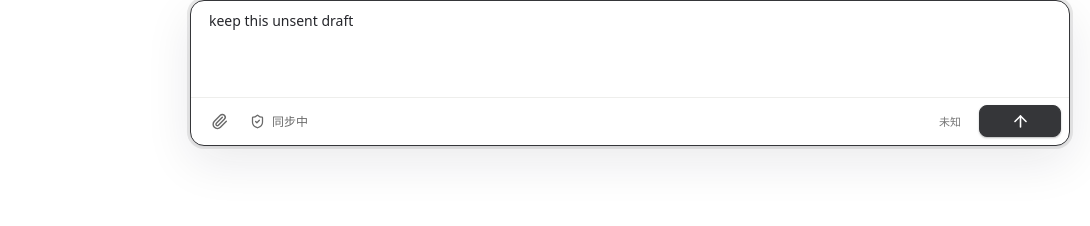
Test: composer terminal-style keyboard controls › preserves failed drafts and lets the user dismiss the warning or start a fresh attempt
What coordinates should you click on to do the following:
click the button with class "send-button"
I would click on:
 (1020, 121)
Its box is [979, 105, 1061, 137].
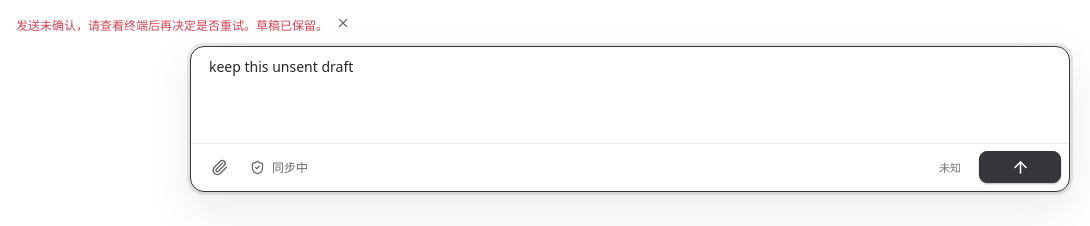
Check: the field with class "cm-content" reads "keep this unsent draft", box [209, 57, 353, 76]
Check: the message "发送未确认，请查看终端后再决定是否重试。草稿已保留。" is shown, box [16, 8, 358, 38]
What coordinates should you click on to do the following:
click the button named "关闭"
I would click on:
 (343, 23)
Its box is [328, 8, 358, 38].
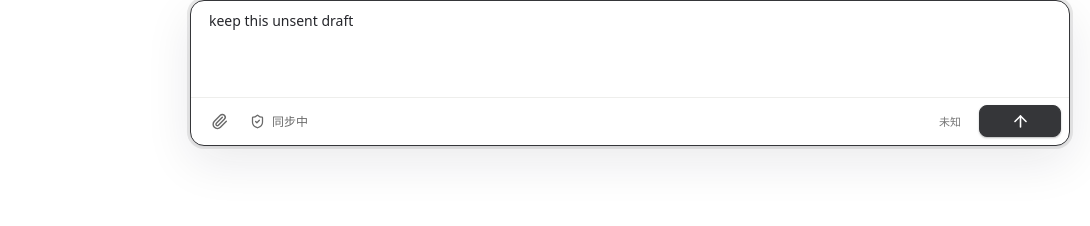
Check: the message with class "composer-feedback" is gone
What coordinates should you click on to do the following:
click the button with class "send-button"
I would click on:
 (1020, 121)
Its box is [979, 105, 1061, 137].
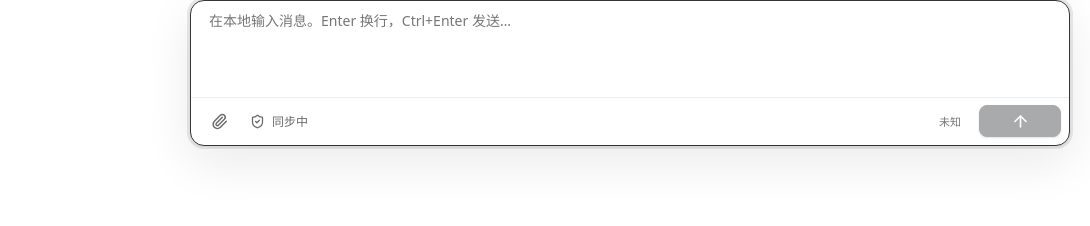
Check: the text "在本地输入消息。Enter 换行，Ctrl+Enter 发送…" is shown, box [209, 10, 511, 31]
